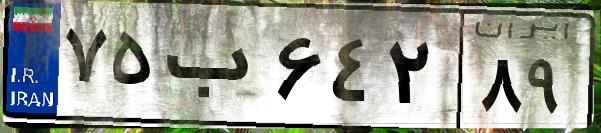2: (385, 28, 445, 110)
4: (330, 28, 385, 110)
5: (110, 28, 158, 98)
6: (270, 28, 330, 110)
7: (57, 26, 110, 100)
8: (475, 38, 525, 113)
9: (525, 38, 570, 115)
ب: (158, 20, 270, 120)
